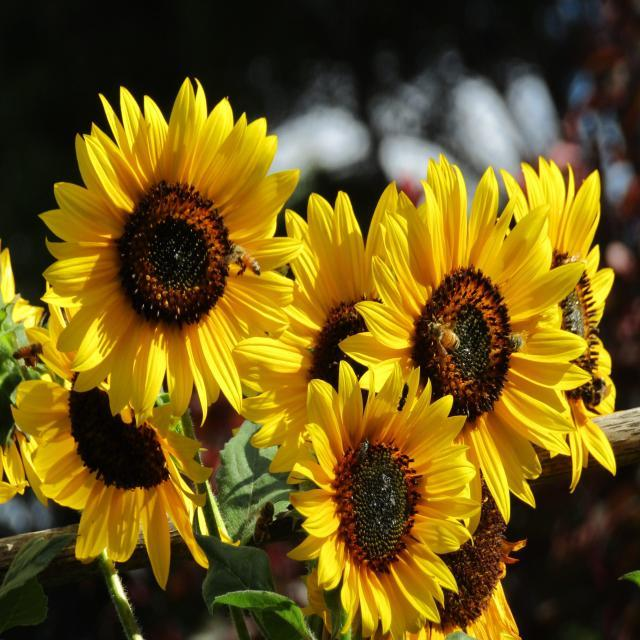sunflower: (337, 152, 592, 526), (37, 75, 303, 427), (10, 283, 214, 591), (231, 182, 427, 484), (284, 358, 480, 640), (498, 155, 618, 494), (382, 472, 526, 640), (0, 242, 48, 507)
